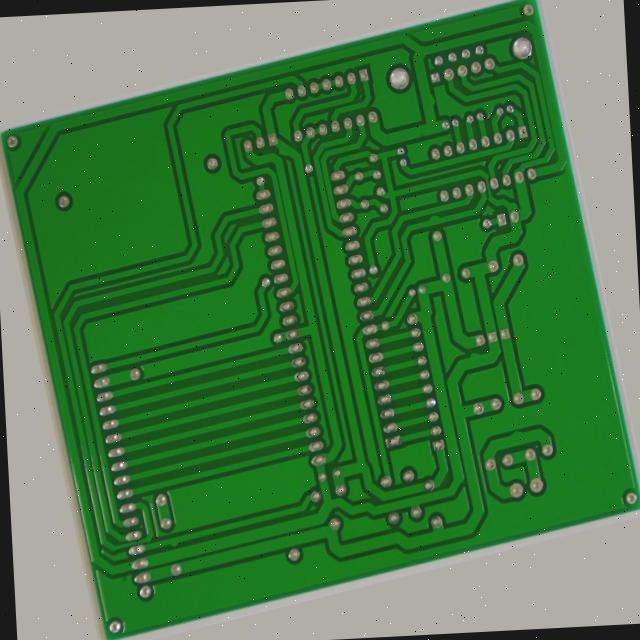spur: (475, 388, 500, 408), (105, 538, 130, 554), (296, 106, 318, 123), (455, 220, 475, 237), (509, 491, 530, 507)
